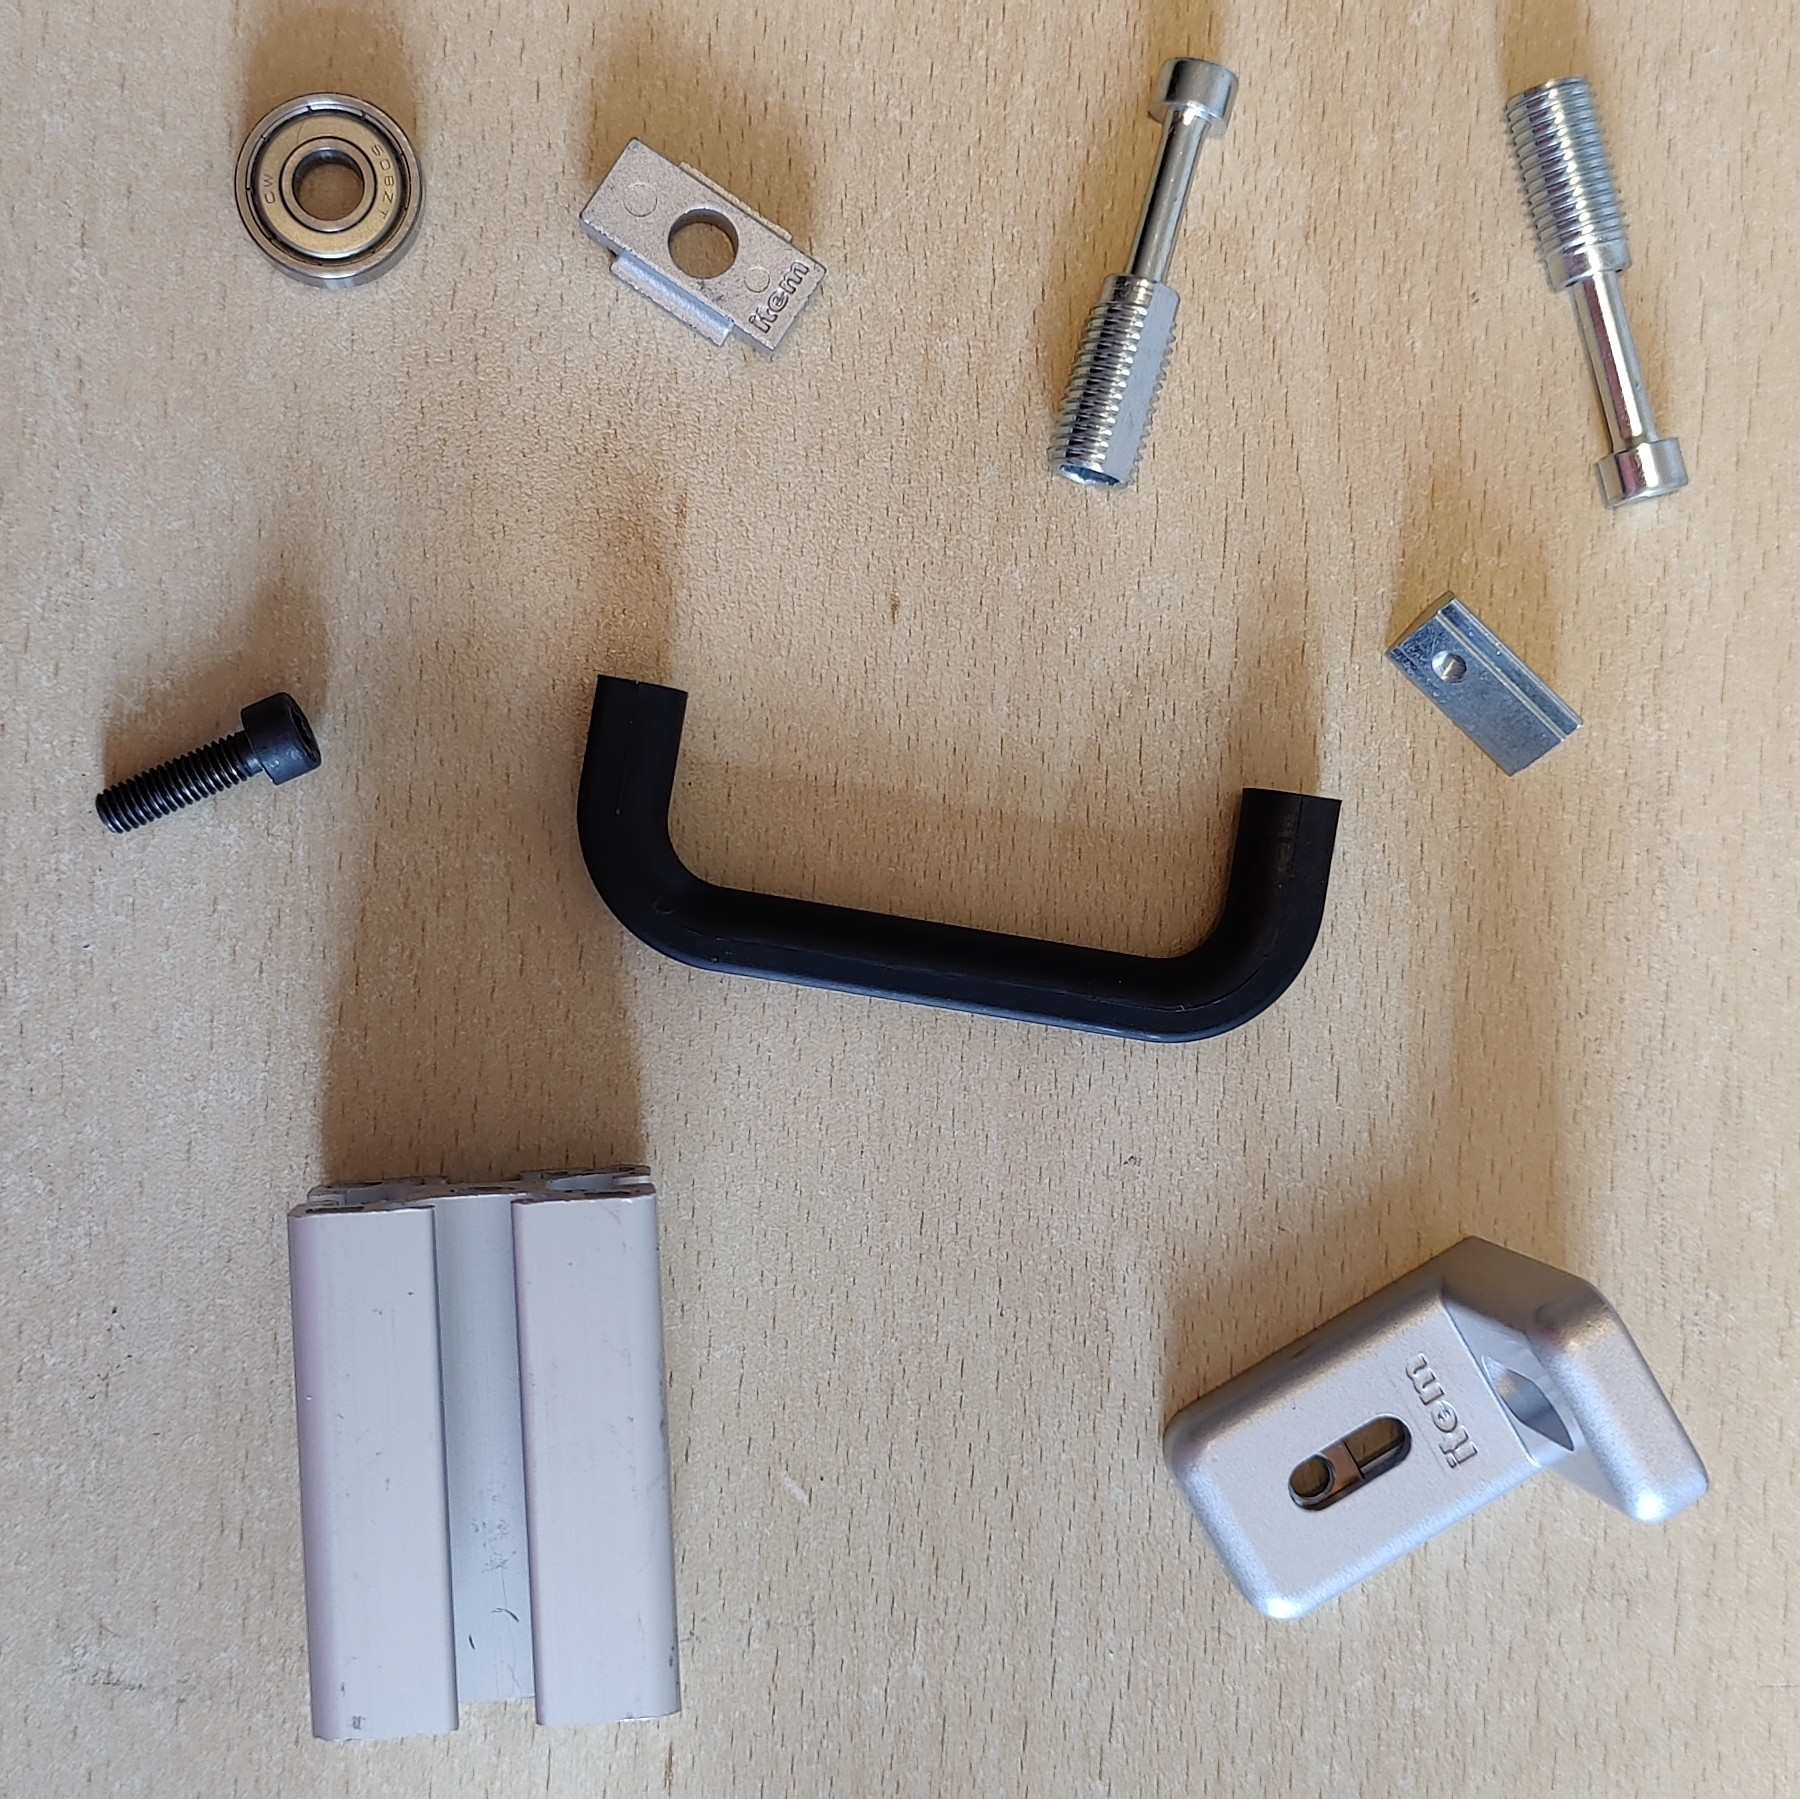Aluminium Extension: (287, 1160, 688, 1746)
Ball Bearing: (231, 91, 428, 292)
Multiwinkel: (1159, 1229, 1711, 1624)
Pull Handle: (575, 671, 1344, 1044)
Shoulder Socket Head Cap Screw: (1044, 53, 1240, 496), (1500, 72, 1693, 512)
Socket Head Cap Screw: (92, 689, 324, 839)
T Nut Square: (576, 132, 832, 356)
T Spring Nut: (1378, 583, 1588, 779)
